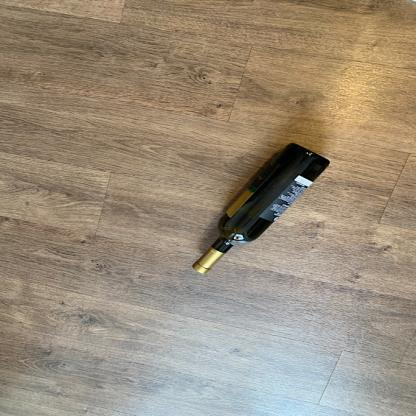trash: (189, 140, 333, 278)
